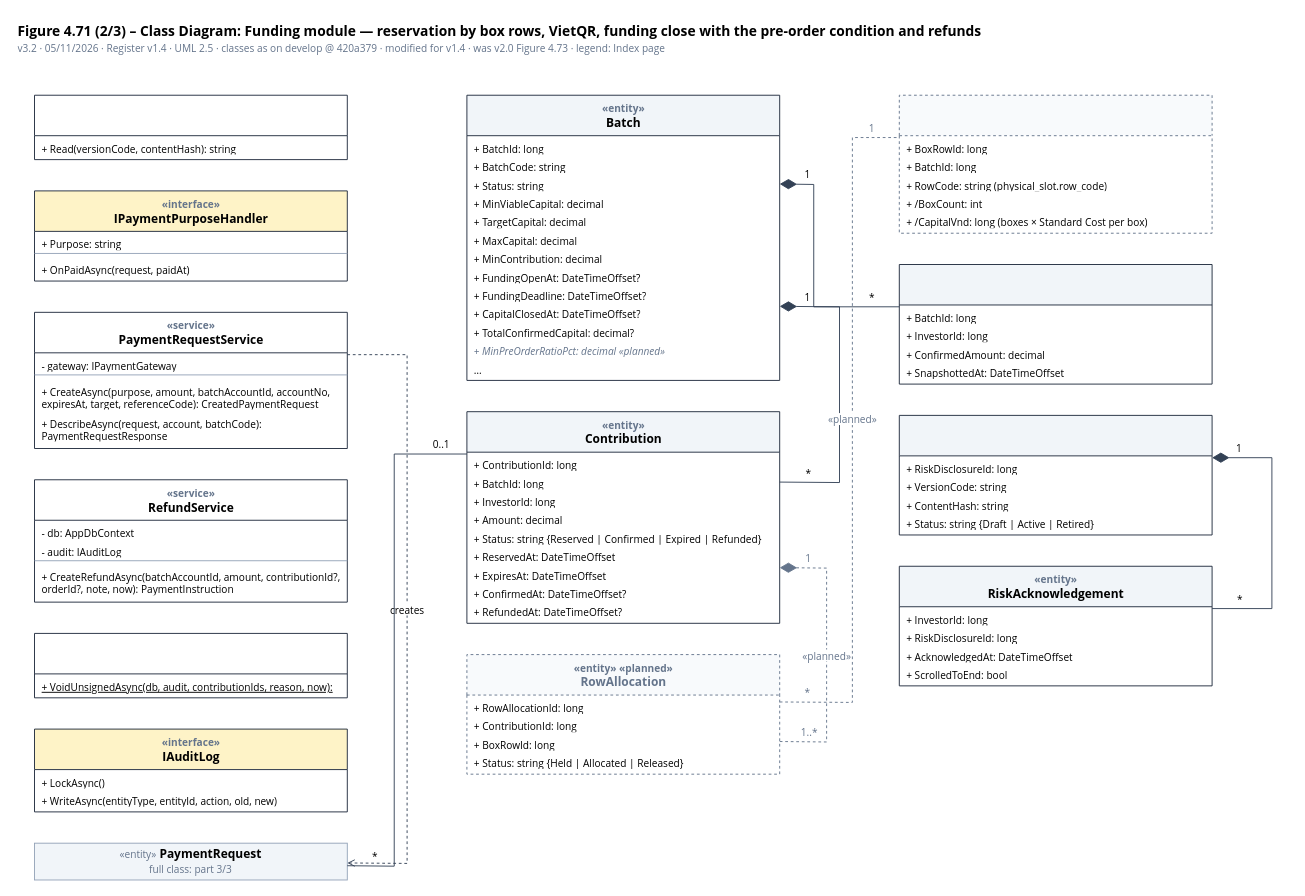
Some shapes in this 1305 by 896 pixel diagram are drawn without their labels. Each missing label, with the box of its shape:
«entity» CapitalShare: (898, 264, 1212, 384)
«entity» RiskDisclosure: (898, 414, 1212, 535)
«entity» «planned» BoxRow: (898, 94, 1212, 233)
«service» RiskDisclosureDocuments: (34, 94, 347, 160)
«static» ContractVoiding: (34, 632, 347, 698)
